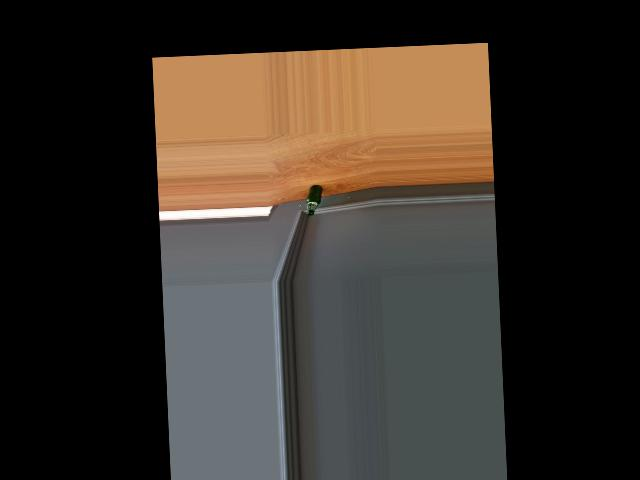beer: (306, 184, 323, 215)
